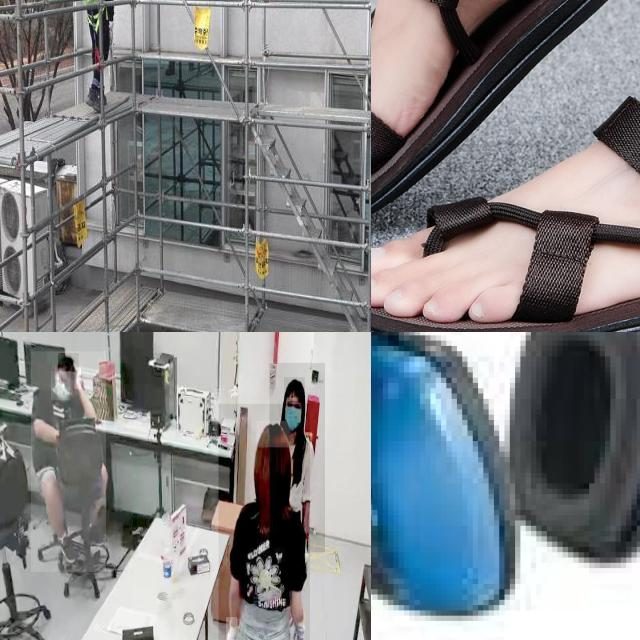Ear-protection: (371, 332, 640, 590)
Sandals: (371, 0, 640, 332)
face_mask: (51, 371, 71, 401), (286, 401, 300, 430)
hand_glove: (291, 614, 307, 640), (226, 617, 237, 640)
hand_noglove: (74, 368, 82, 390)
head_nohelmet: (256, 421, 290, 448), (284, 377, 306, 399), (58, 353, 80, 373)
person: (218, 403, 310, 640), (31, 351, 107, 573), (270, 363, 326, 553)
shoes: (56, 525, 80, 570)
